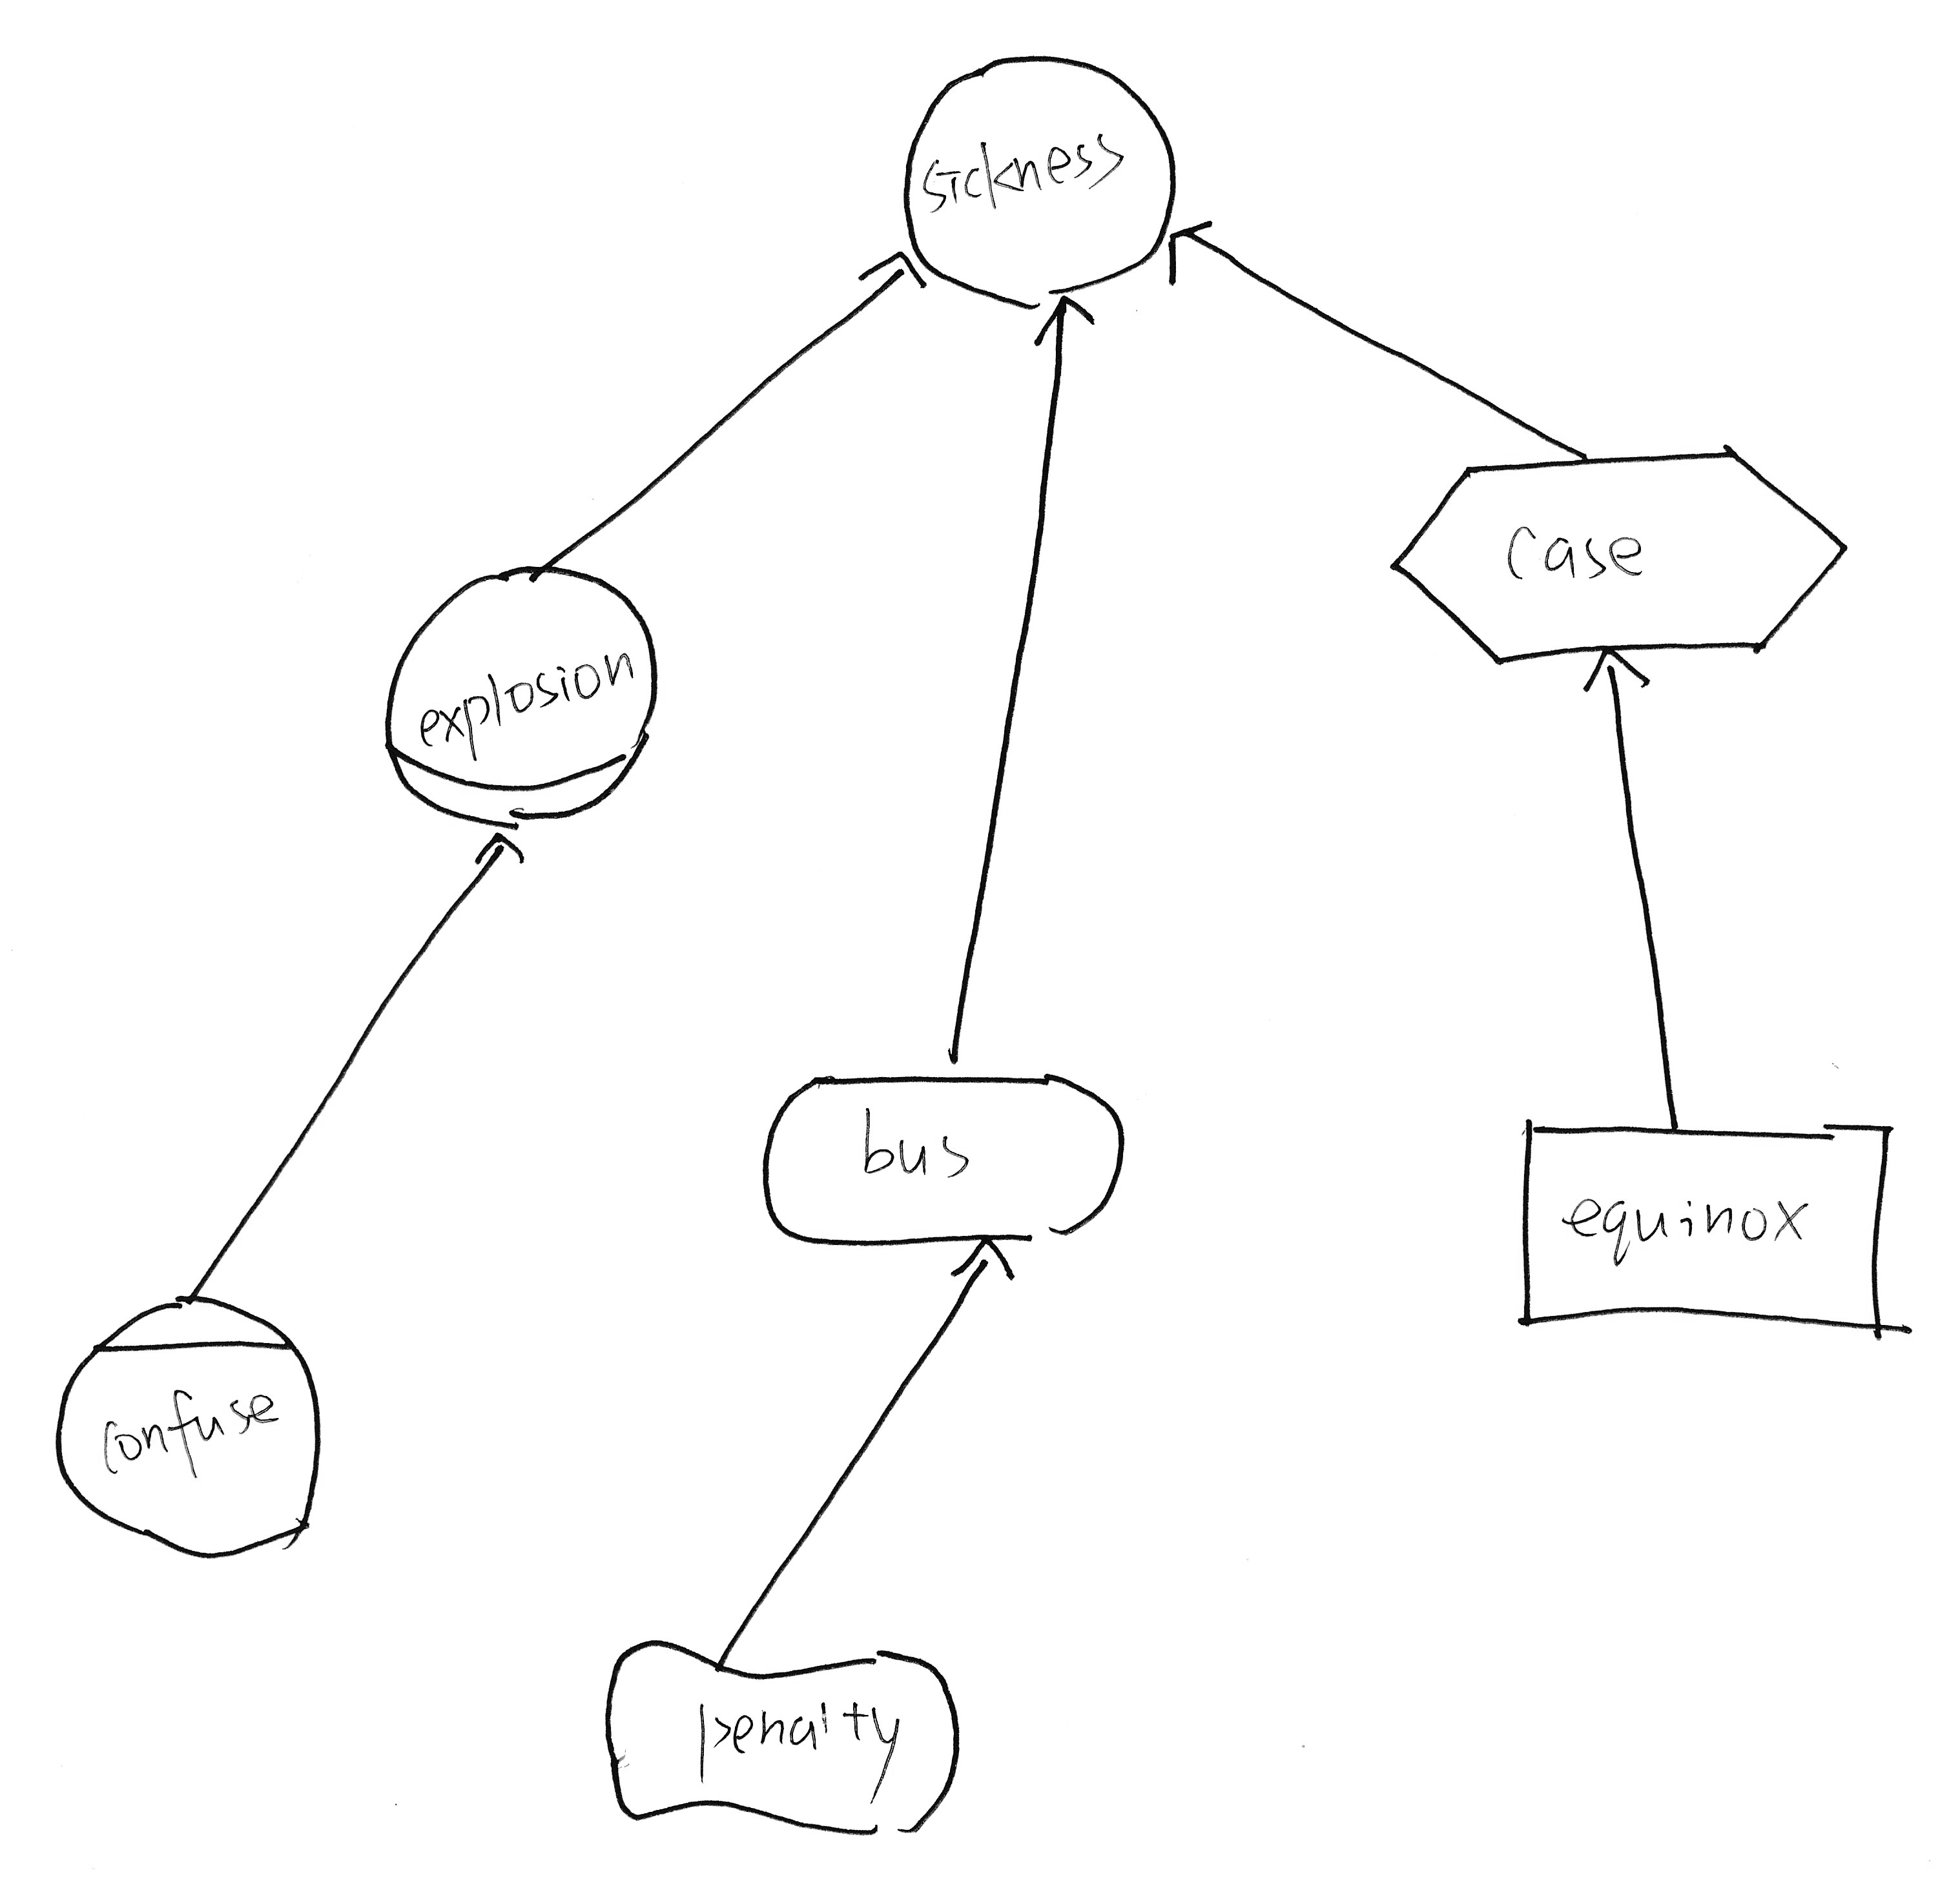actor: (885, 35, 1199, 327)
agent: (28, 1274, 346, 1572)
arrow: (940, 1217, 1039, 1313), (1564, 627, 1664, 721), (1020, 271, 1104, 362), (1153, 201, 1225, 305), (852, 242, 934, 320), (457, 819, 544, 886)
goal: (744, 1054, 1150, 1259)
quality: (584, 1624, 983, 1852)
resource: (1487, 1091, 1939, 1374)
role: (357, 546, 681, 842)
task: (1368, 429, 1871, 688)
